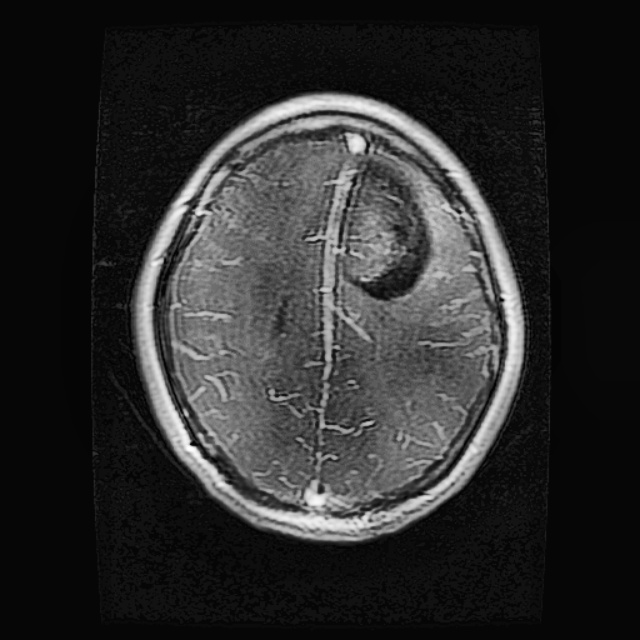Glioma: (325, 153, 432, 302)
